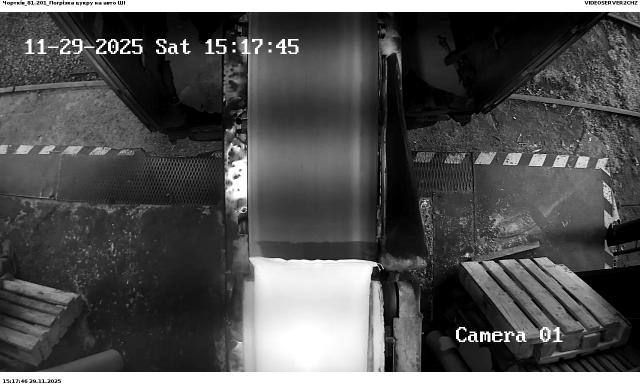bag: (248, 257, 380, 372)
